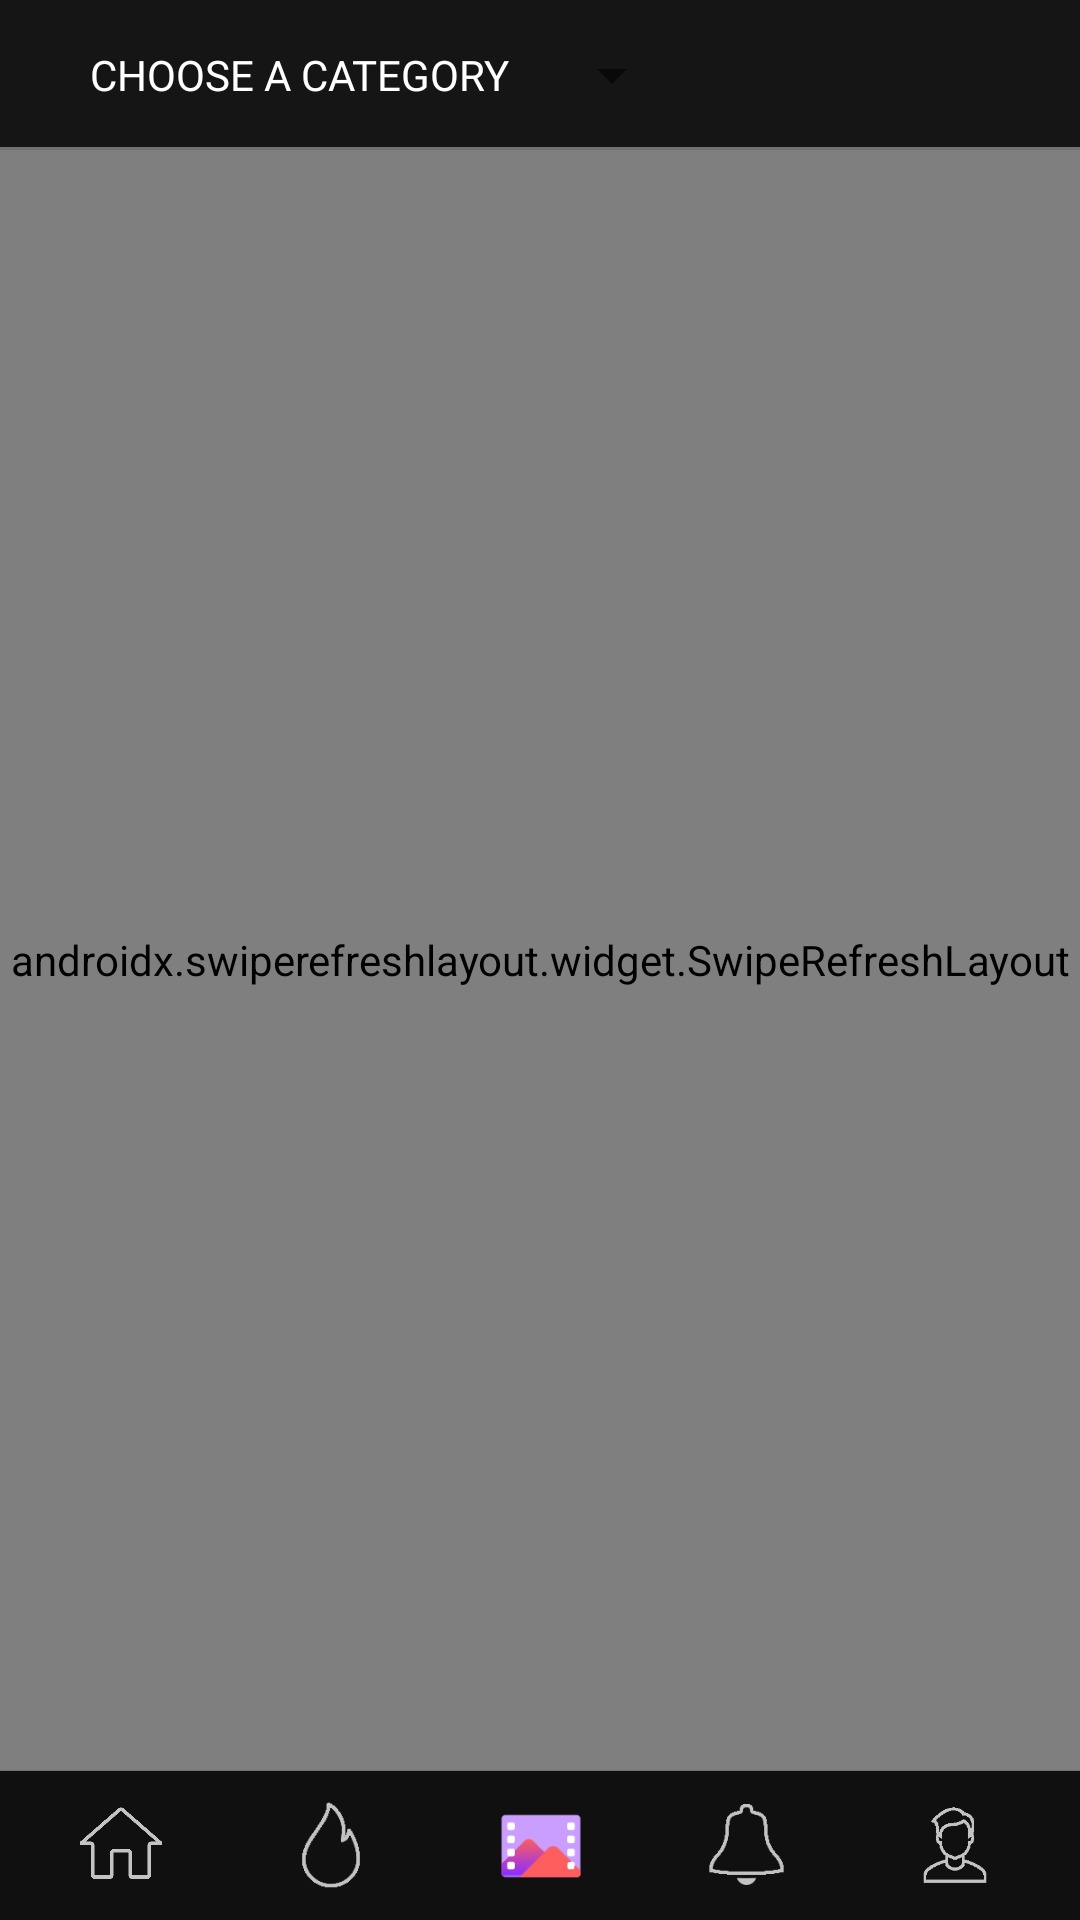

Icon bounding boxes for this 1080*1920 phone screenshot, format (x1, y1, x2, y2):
fire: (302, 1802, 360, 1888)
home: (80, 1807, 162, 1879)
notifications: (709, 1804, 784, 1885)
profile: (923, 1807, 987, 1883)
video gallery: (501, 1814, 581, 1878)
